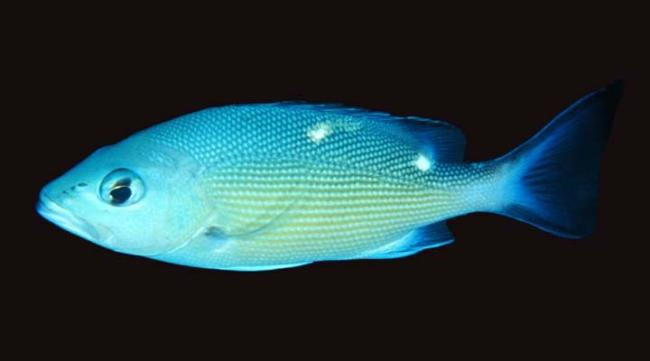fish: (35, 91, 598, 272)
